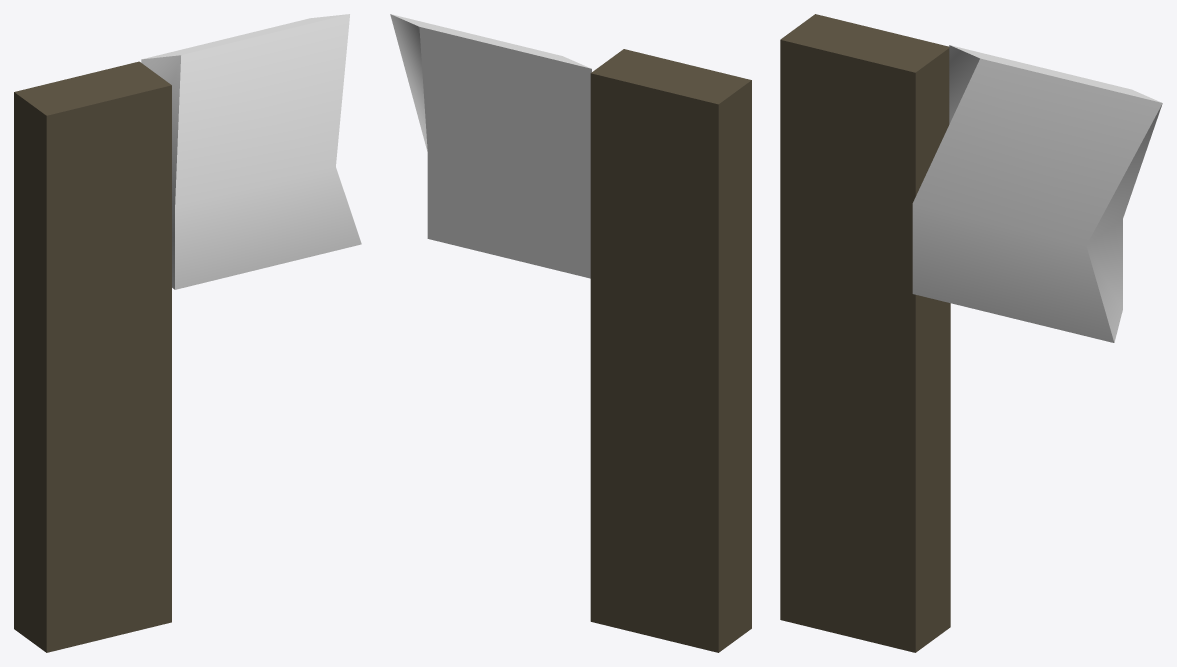
Rendered from flag2.fbx.
The picture shows the model from 3 angles, left to right: view 1: azimuth 30°, elevation 25°; view 2: azimuth 150°, elevation 25°; view 3: azimuth 330°, elevation 25°; orthographic projection. The views are drawn at different scales.
Visible parts, largest first — view 1: polySurface2; view 2: polySurface2; view 3: polySurface2.
Part boxes in pixels (x1,y1,x2,y2): polySurface2: [14, 14, 361, 652]; polySurface2: [390, 14, 751, 652]; polySurface2: [780, 14, 1162, 652].
Bounding box in the file's own units: 0.8073 × 1.27 × 0.1506.
